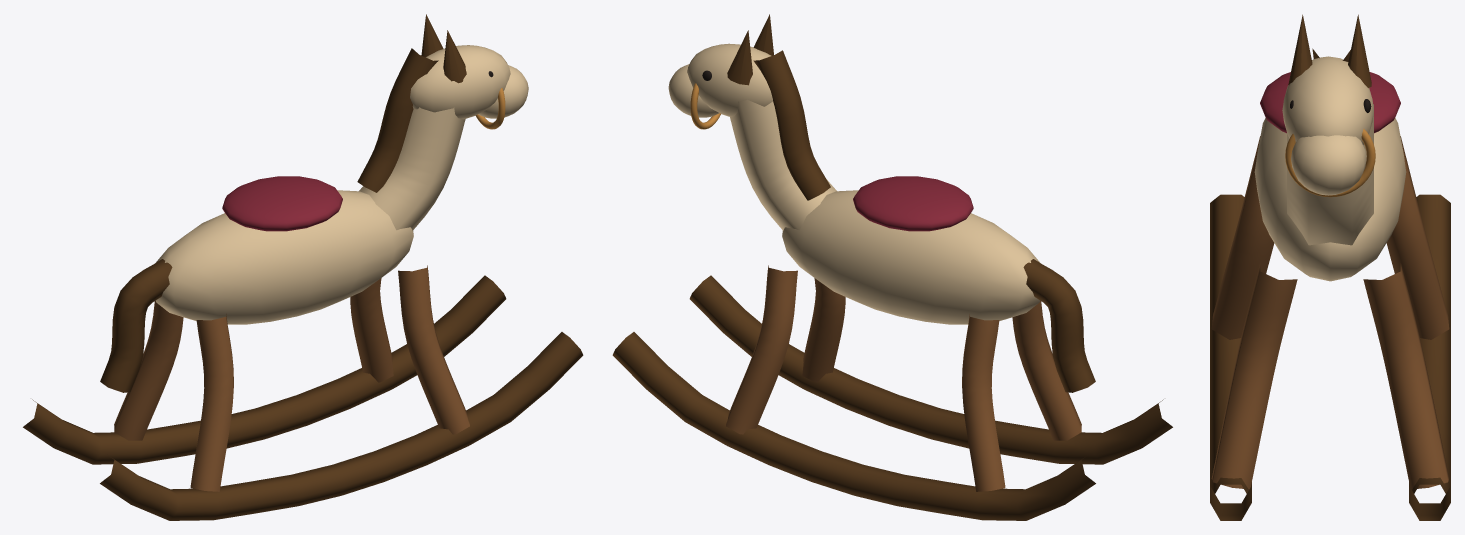
Rendered from mia-rocking_horse.glb.
3 renders of one model, left to right at view 1: azimuth 30°, elevation 25°; view 2: azimuth 150°, elevation 25°; view 3: azimuth 270°, elevation 25°, orthographic. The views are drawn at different scales.
Parts seen in each view (by area): view 1: Body_wood, Body_ivory, Body_oak, Body_velvet; view 2: Body_wood, Body_ivory, Body_oak, Body_velvet; view 3: Body_oak, Body_ivory, Body_wood, Body_velvet, Body_brass.
Boxes of the visible parts, x1,y1,x2,y2 form: Body_wood: [23, 14, 583, 520]; Body_ivory: [155, 45, 528, 324]; Body_oak: [114, 265, 469, 491]; Body_velvet: [222, 176, 342, 231]; Body_wood: [612, 14, 1172, 520]; Body_ivory: [668, 43, 1040, 324]; Body_oak: [726, 265, 1081, 491]; Body_velvet: [853, 176, 973, 231]; Body_oak: [1211, 136, 1449, 489]; Body_ivory: [1254, 56, 1406, 281]; Body_wood: [1210, 14, 1450, 520]; Body_velvet: [1260, 72, 1400, 133]; Body_brass: [1285, 129, 1375, 197].
Bounding box in the file's own units: 1.28 × 1.03 × 0.426.
